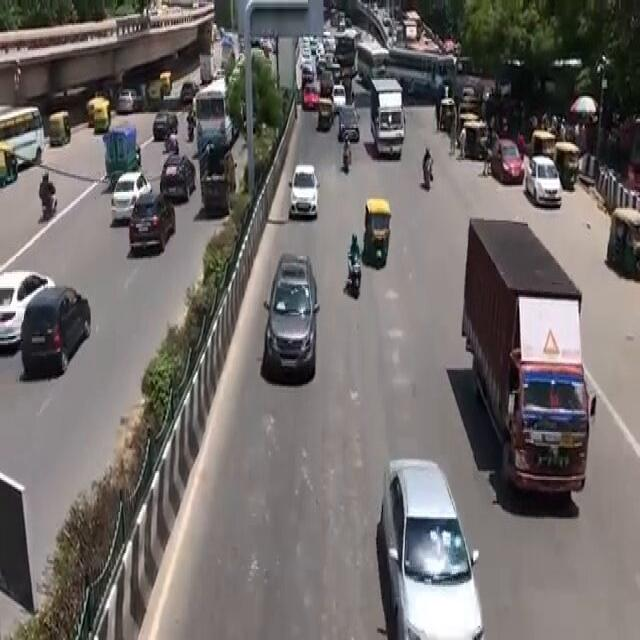three_wheeler: (360, 183, 396, 292)
